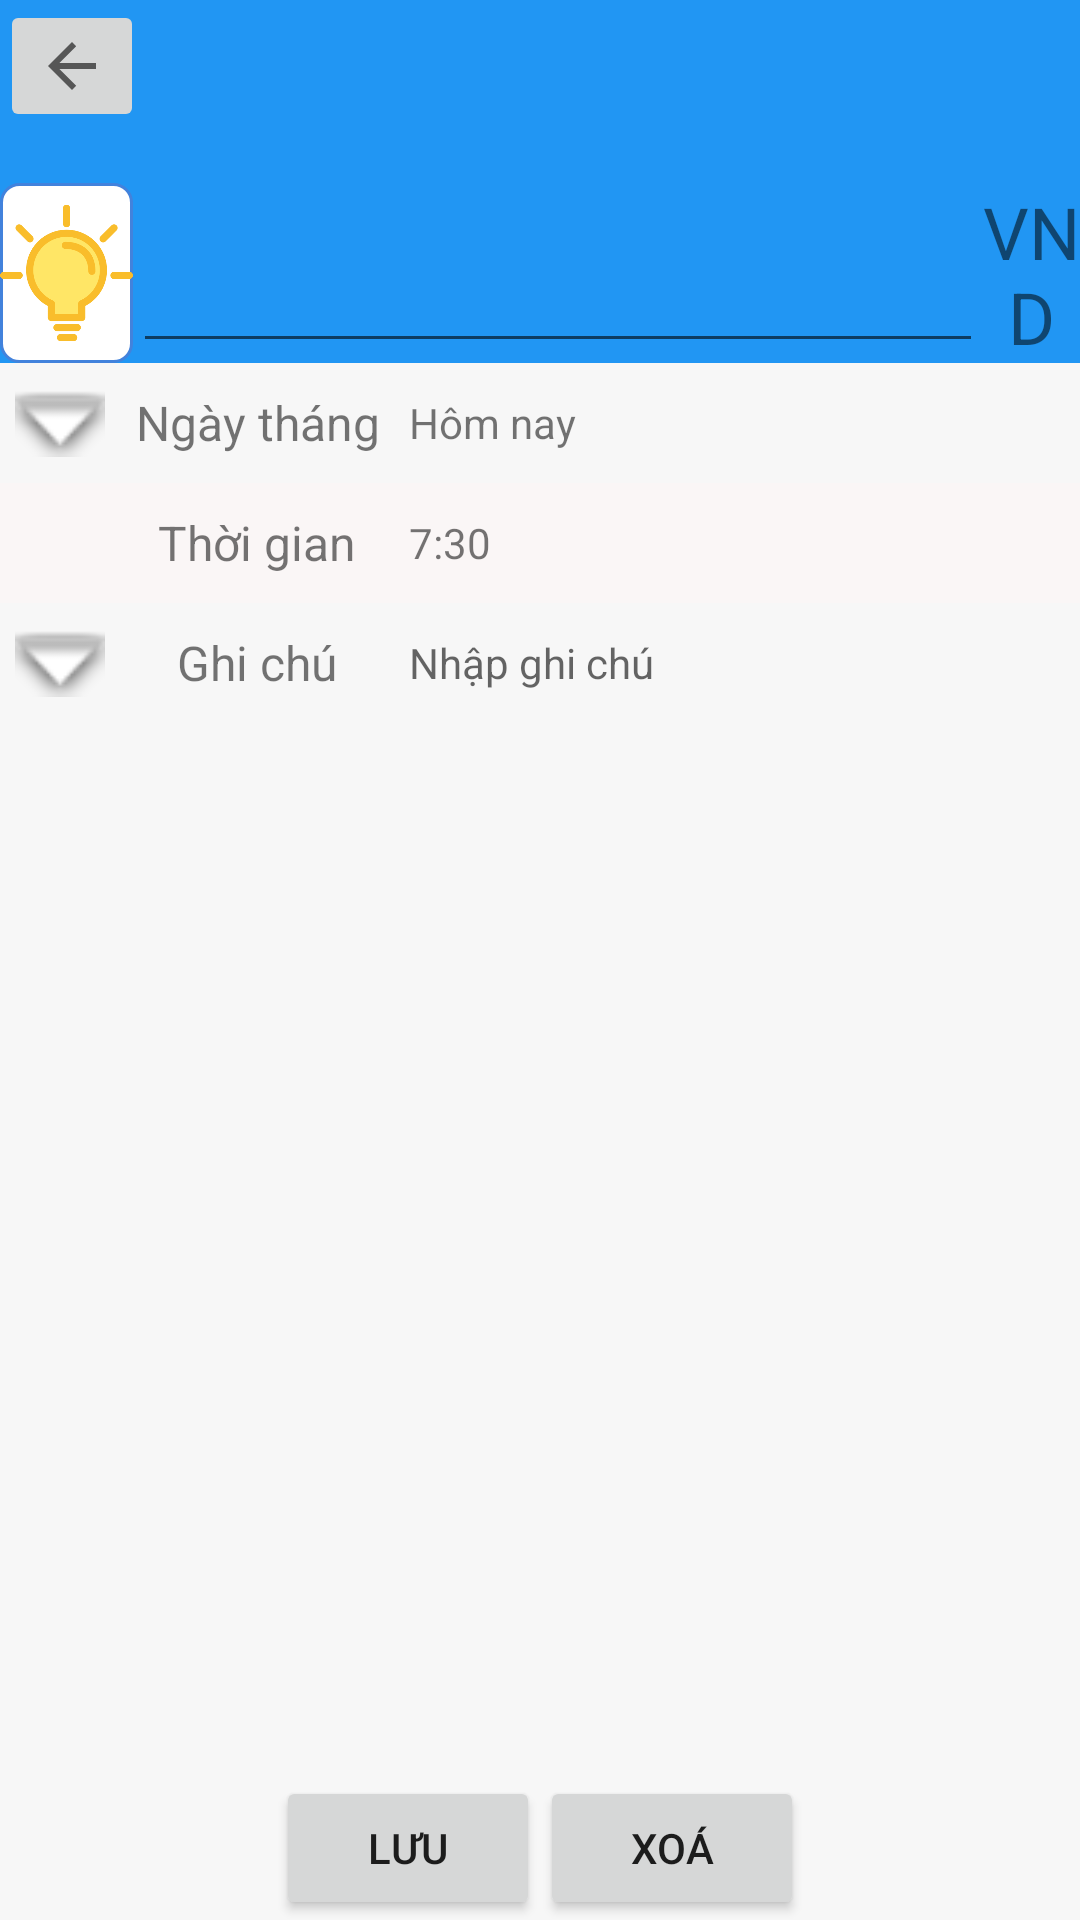

Where to tap for icons on this 1080x1920 app screen, as point (x, y):
arrow down float: point (60, 423), point (60, 663)
